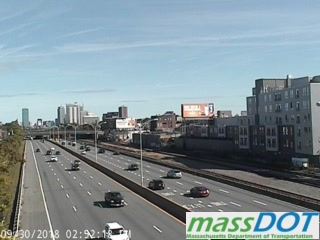car: (104, 221, 131, 240), (104, 192, 125, 207), (188, 185, 210, 198), (147, 178, 165, 190), (166, 170, 182, 179), (128, 162, 139, 171), (70, 164, 79, 171), (48, 155, 58, 161), (97, 148, 105, 154), (73, 160, 81, 165), (79, 150, 87, 155), (112, 151, 119, 156), (55, 150, 61, 155), (34, 148, 41, 152), (46, 150, 51, 155), (49, 146, 55, 150), (60, 141, 66, 145), (71, 142, 75, 147), (79, 145, 83, 149)
